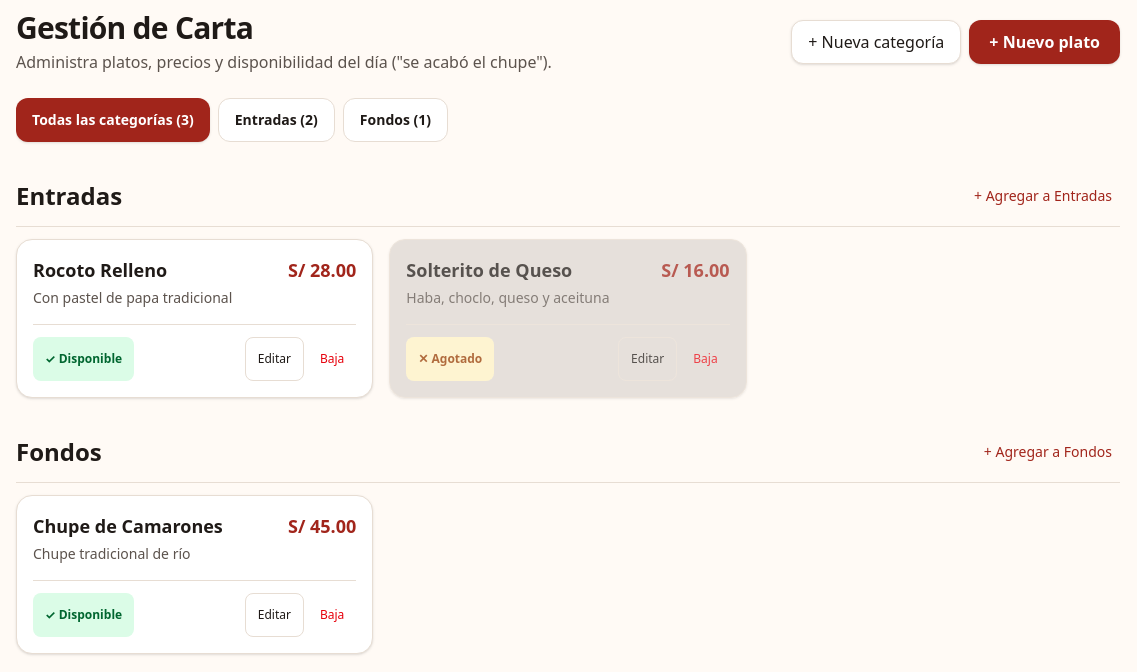
Scenario: MenuPage (Módulo Carta) › permite filtrar la visualización por categoría
Expected: the heading "Rocoto Relleno" is shown, [33, 256, 167, 284]
What coordinates should you click on to do the following:
click the button "Fondos (1)"
I would click on:
 (395, 120)
Its box is [343, 98, 448, 142].
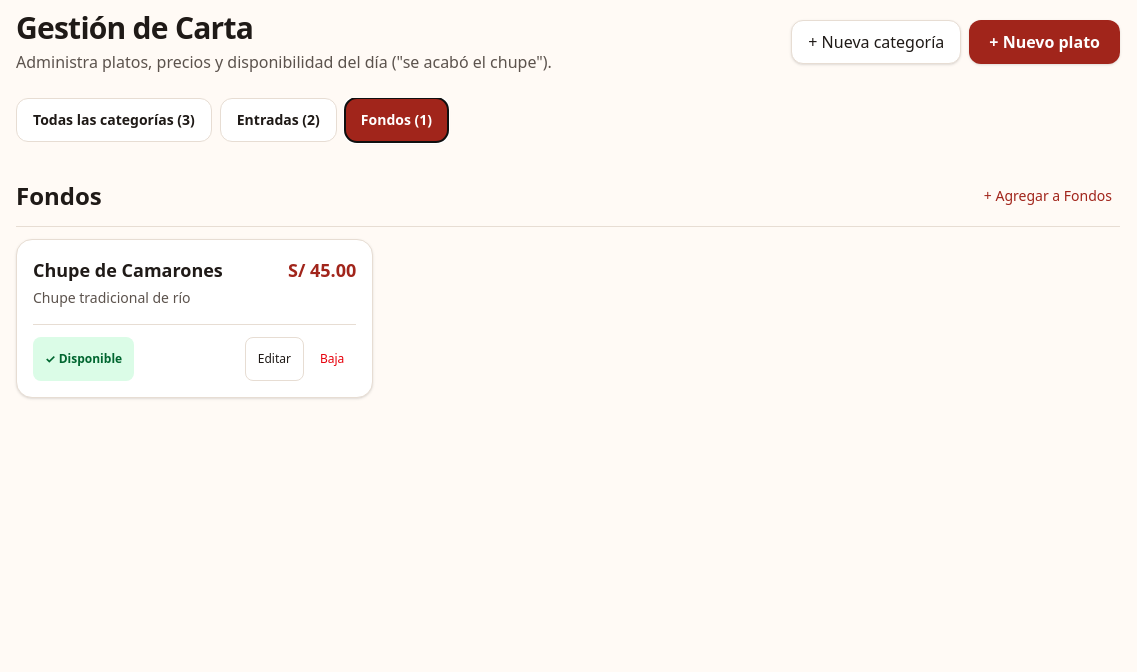
Expected: the heading "Chupe de Camarones" is shown, [33, 256, 223, 284]
Result: the heading "Rocoto Relleno" is gone
